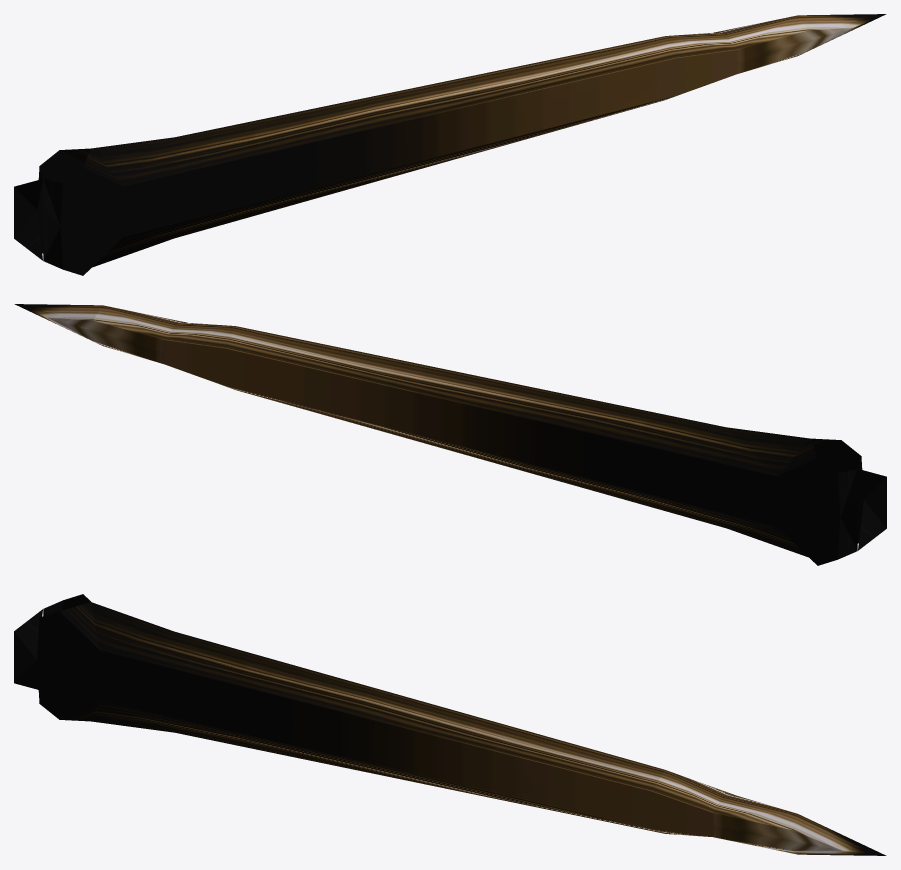
The model's file is fswuqi_liuguang02.FBX.
The picture shows the model from 3 angles, top to bottom: view 1: azimuth 30°, elevation 25°; view 2: azimuth 150°, elevation 25°; view 3: azimuth 330°, elevation 25°; orthographic projection.
Parts seen in each view (by area): view 1: fswuqi_liuguang02; view 2: fswuqi_liuguang02; view 3: fswuqi_liuguang02.
Boxes of the visible parts, x1=… form: fswuqi_liuguang02: x1=14, y1=14, x2=886, y2=275; fswuqi_liuguang02: x1=14, y1=304, x2=886, y2=565; fswuqi_liuguang02: x1=14, y1=594, x2=886, y2=855.
Bounding box in the file's own units: 105 × 13.98 × 6.24.
Materials: 1 (1 with a texture image).
